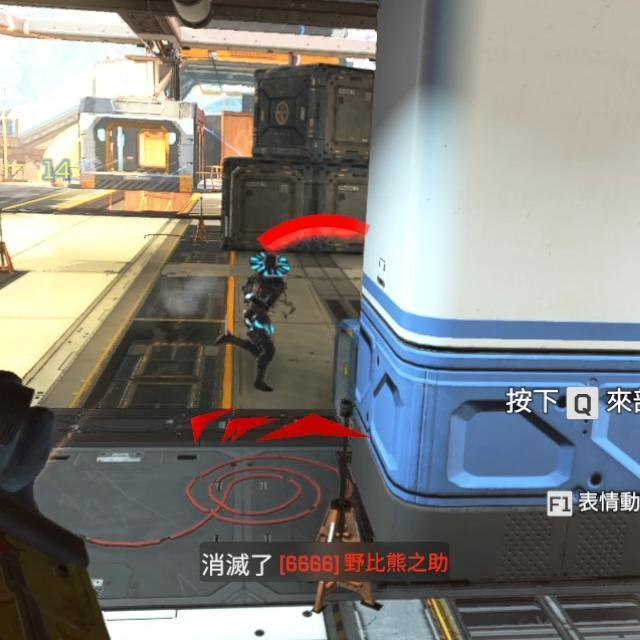avatar: (239, 248, 292, 394)
